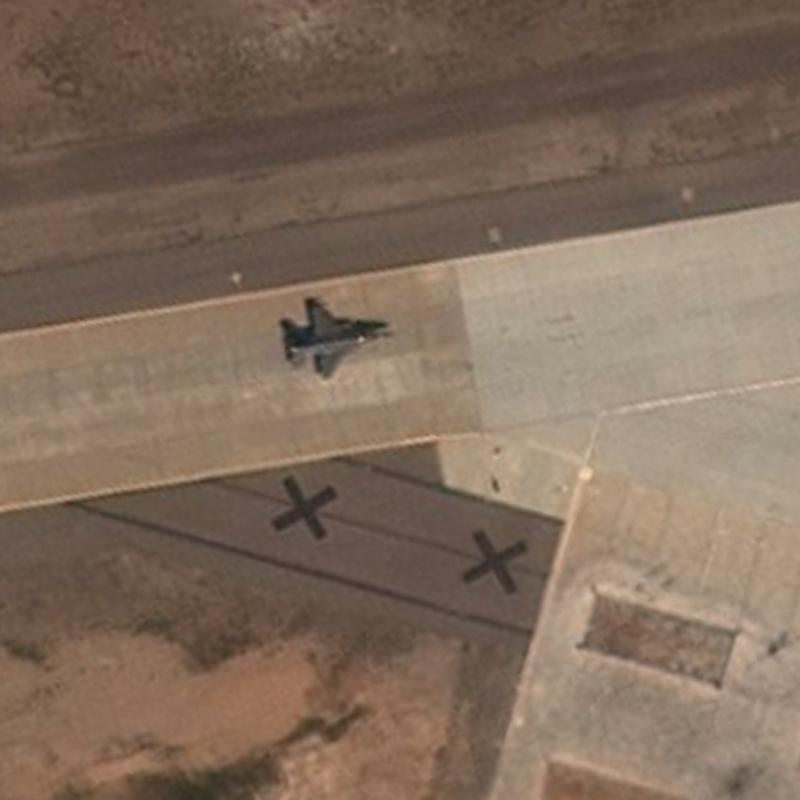A5: (280, 296, 394, 384)
